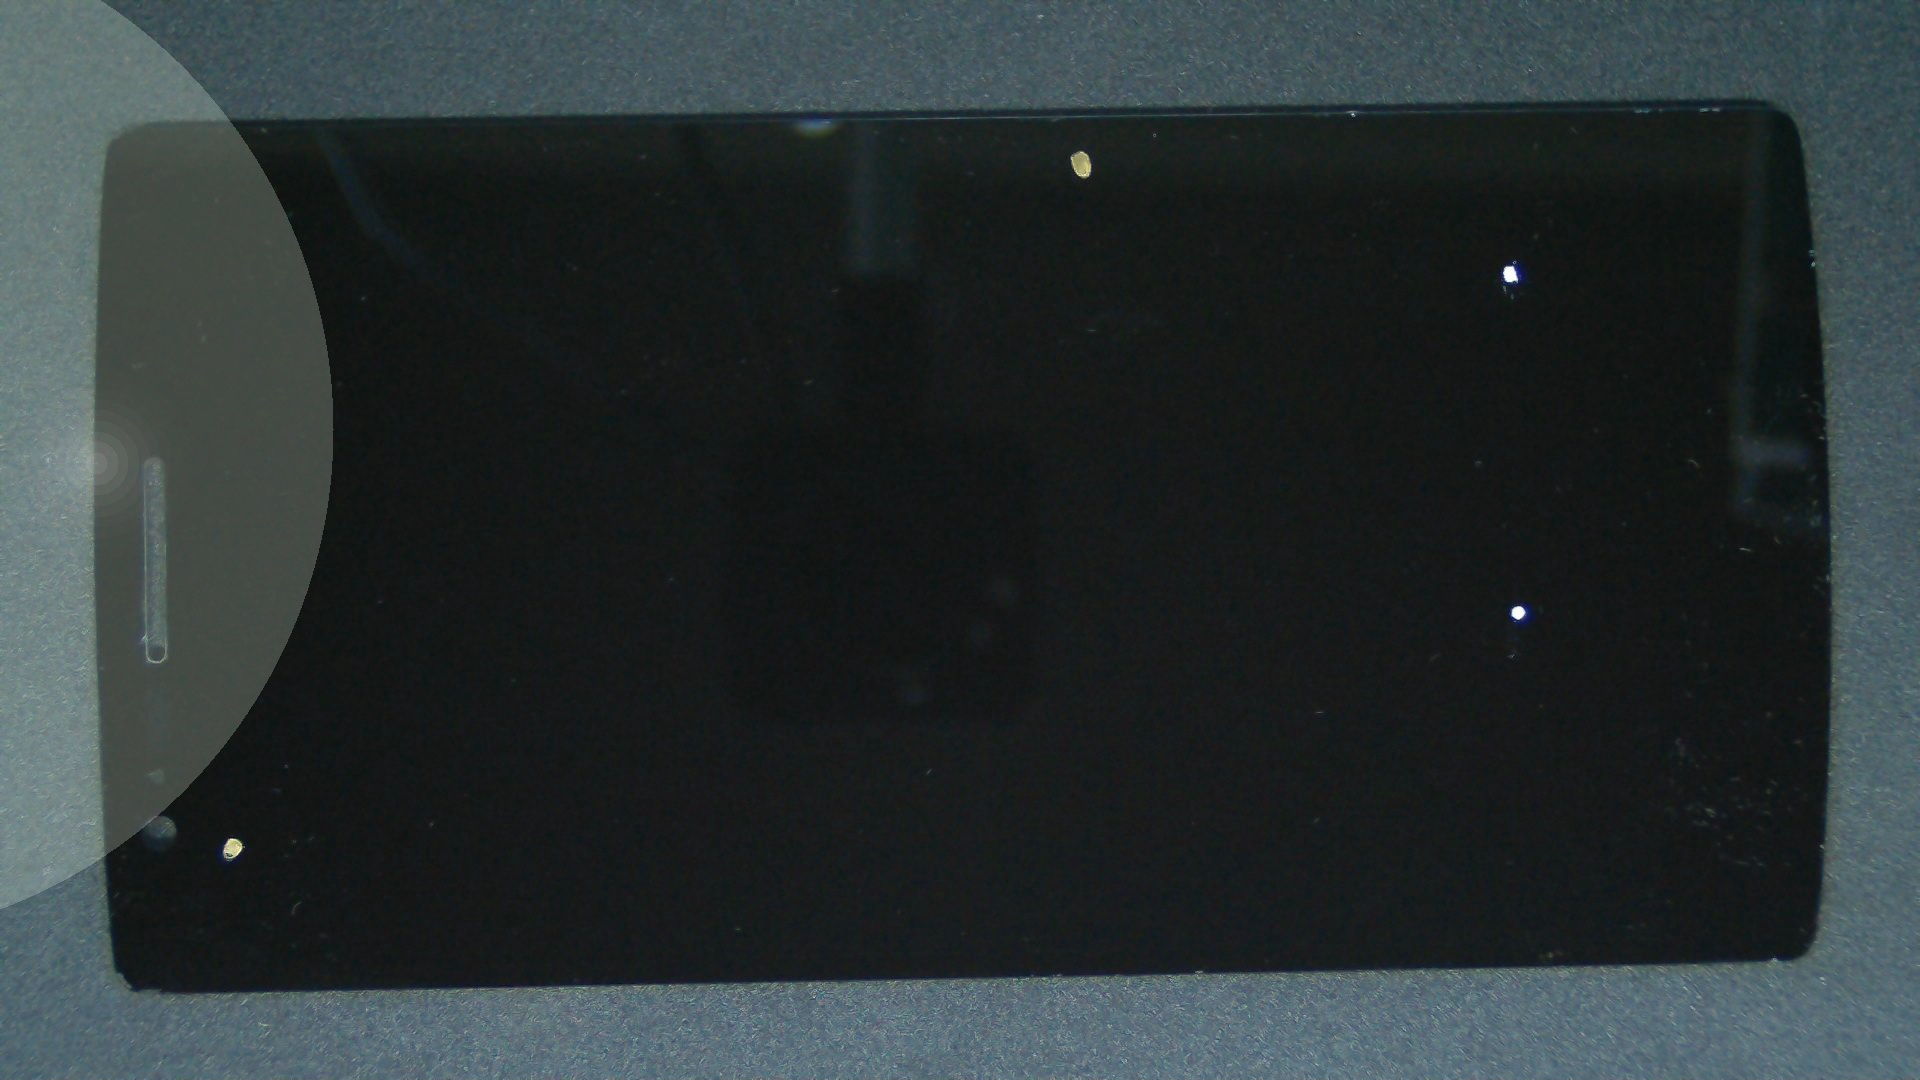oil: (760, 302, 1920, 906), (758, 132, 1920, 397), (541, 74, 1618, 223), (119, 418, 355, 1080)
